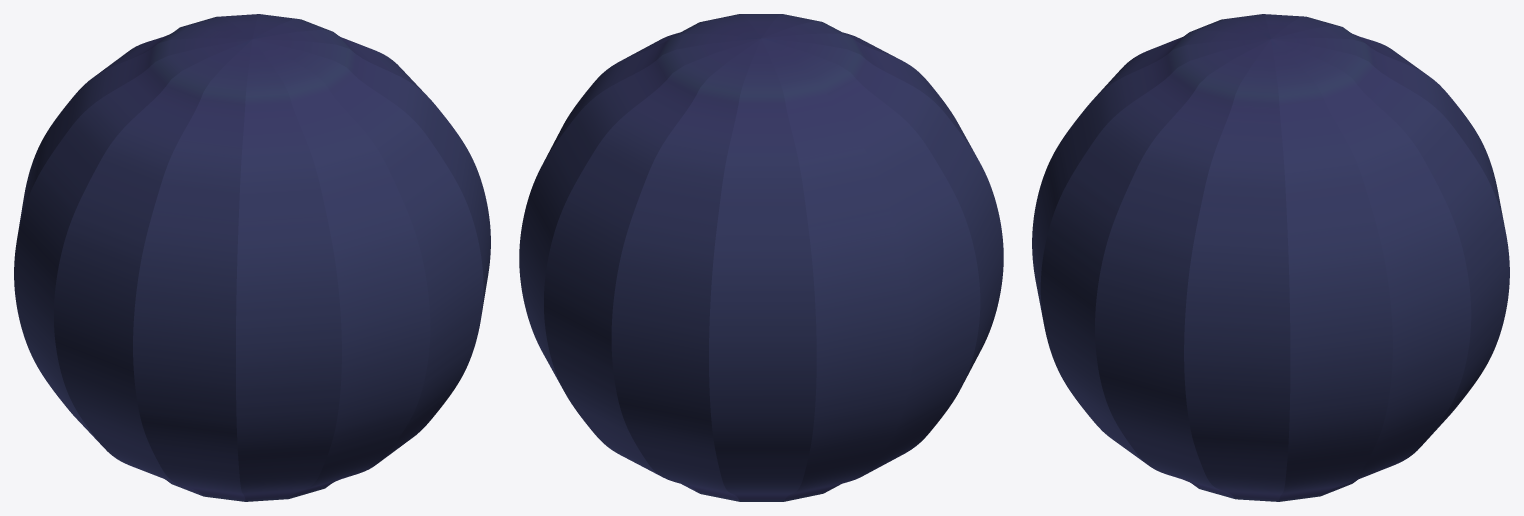
The picture shows the model from 3 angles, left to right: view 1: azimuth 30°, elevation 25°; view 2: azimuth 150°, elevation 25°; view 3: azimuth 270°, elevation 25°; orthographic projection.
Parts seen in each view (by area): view 1: faceted_body; view 2: faceted_body; view 3: faceted_body.
Boxes of the visible parts, box(x1,y1,x2,y2) form: faceted_body: box(14, 14, 490, 501); faceted_body: box(519, 14, 1003, 501); faceted_body: box(1032, 14, 1509, 501).
Bounding box in the file's own units: 7.97 × 8 × 7.92.
